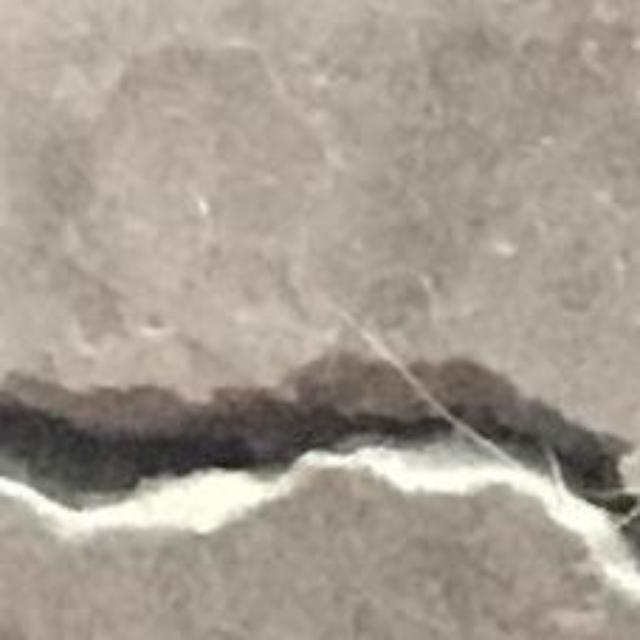crack: (0, 353, 639, 608)
